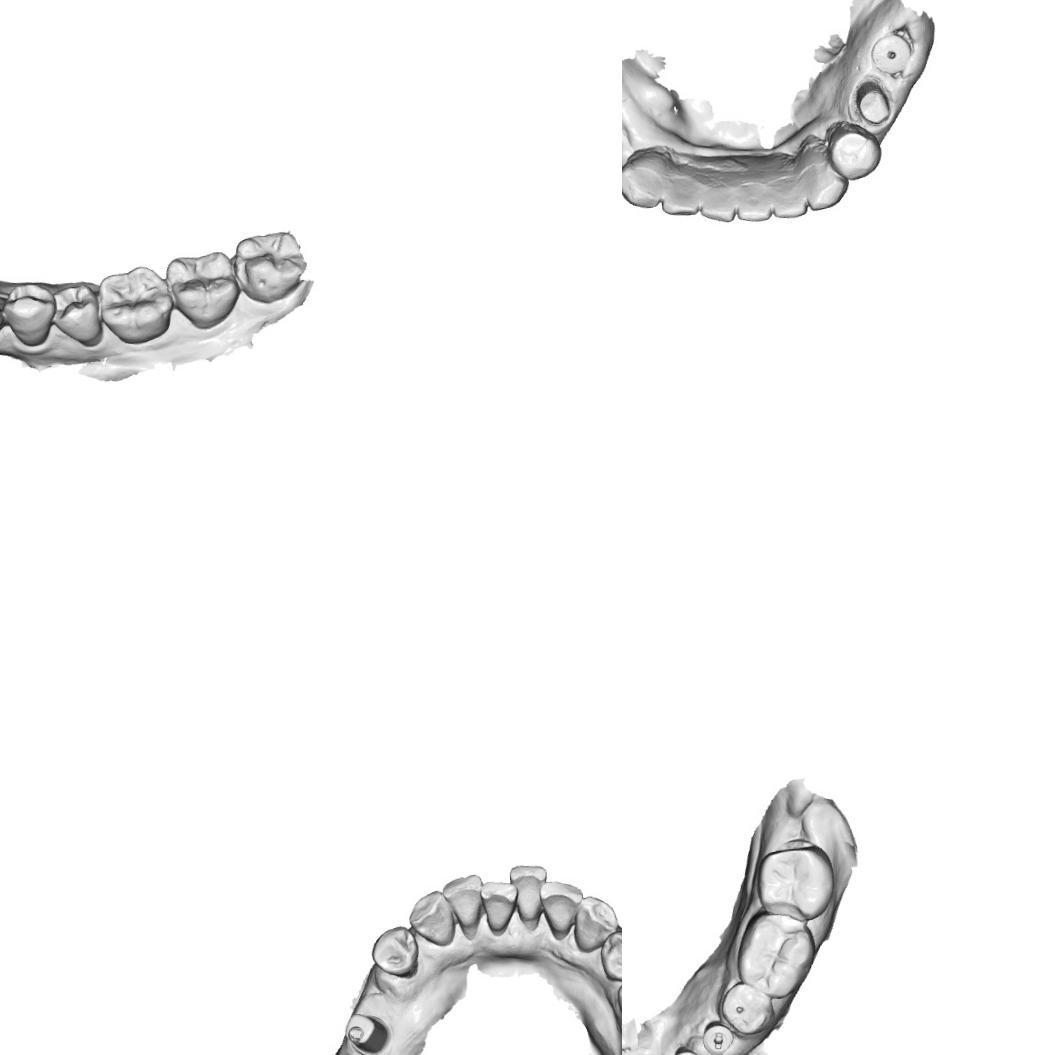abutment: (340, 1008, 393, 1055)
canine: (571, 892, 621, 954), (798, 156, 852, 212), (406, 888, 456, 948), (622, 154, 665, 213)
crown: (850, 76, 894, 130)
implant: (866, 29, 915, 76)
implant_minus: (696, 1017, 735, 1055), (666, 1043, 709, 1055)
incisor: (439, 872, 486, 941), (537, 878, 586, 940), (508, 861, 550, 926), (696, 170, 739, 228), (731, 170, 777, 224), (478, 878, 520, 935), (656, 170, 702, 219), (769, 170, 811, 222)
molar: (732, 909, 819, 1004), (747, 842, 842, 926), (94, 262, 175, 346), (164, 246, 240, 333), (231, 228, 309, 308)
premolar: (0, 276, 58, 353), (823, 116, 883, 184), (50, 278, 104, 351), (719, 979, 778, 1039), (369, 923, 421, 980), (597, 927, 622, 983)
